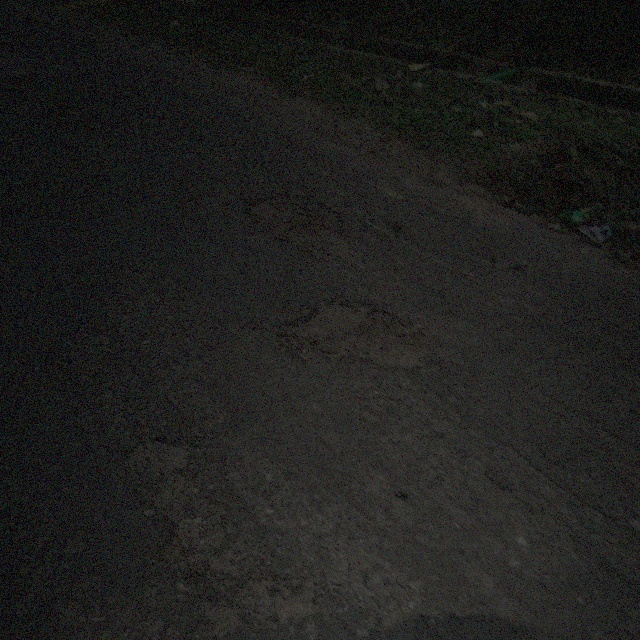pothole: (274, 294, 432, 374), (238, 190, 359, 267), (118, 432, 193, 484), (48, 95, 130, 134), (0, 70, 45, 97)
